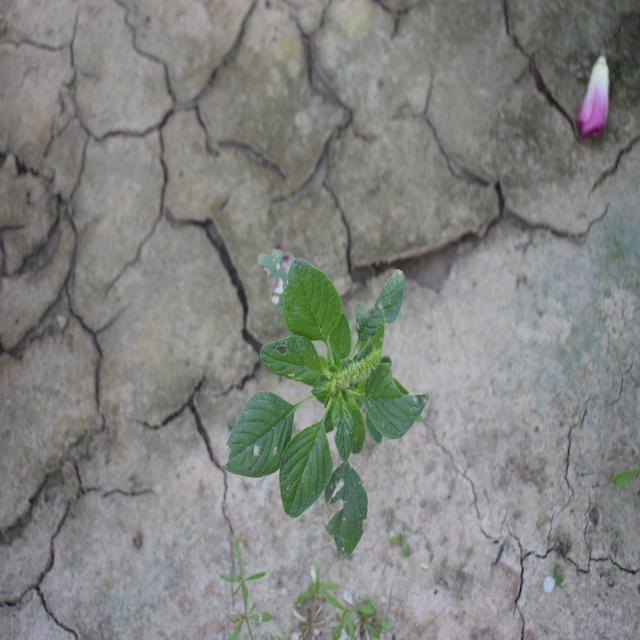Carpetweed: (217, 541, 396, 638)
PalmerAmaranth: (222, 246, 430, 564)
